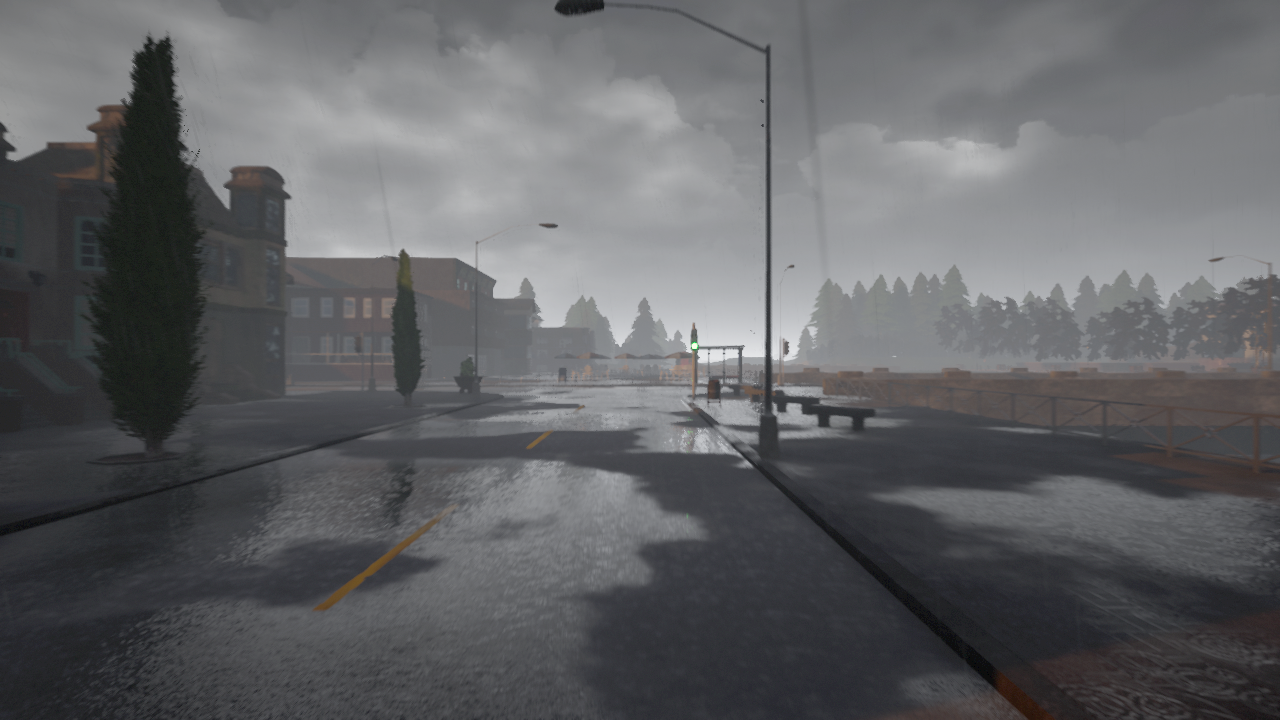green: (689, 327, 699, 350)
